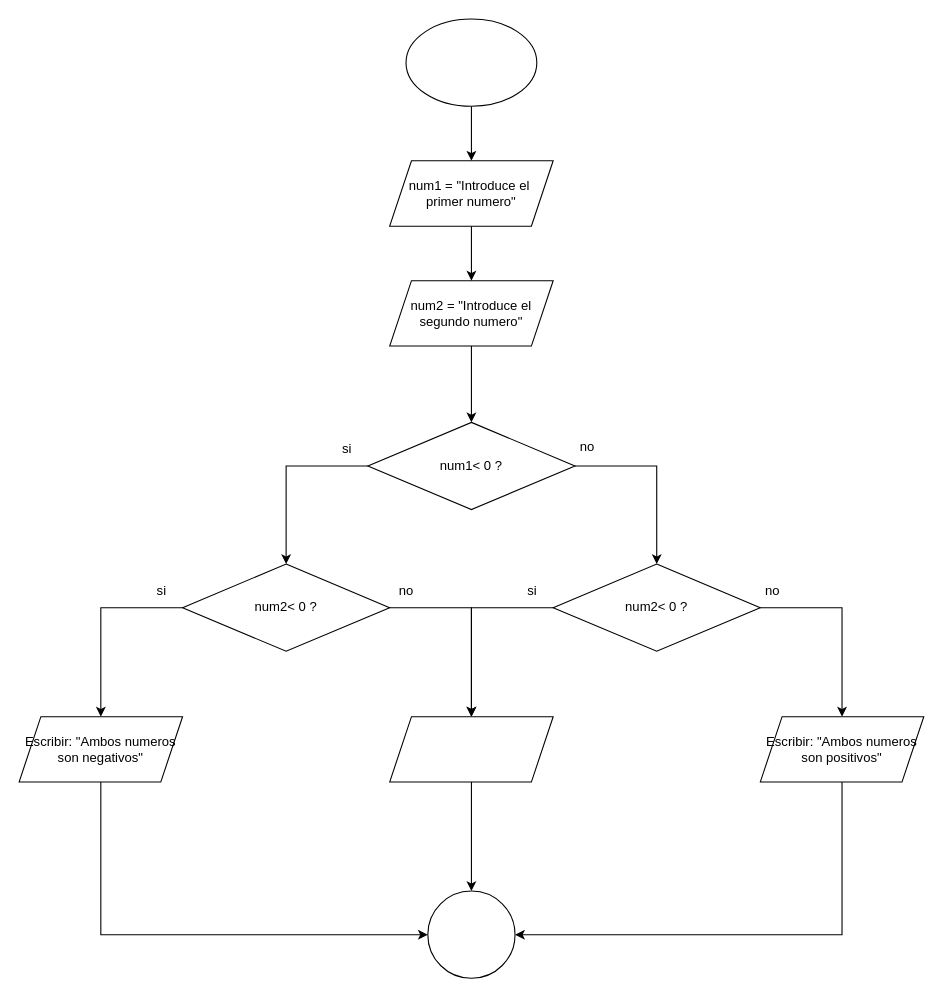
The diagram is 943 pixels wide and 997 high, and some of its shapes have lost their labels. Here are the shapes that lost their labels. From the top down, the centre of each, then its label:
pixel 471 62: INICIO
pixel 471 749: Escribir: "Uno de los numeros es positivo"
pixel 471 934: FIN
